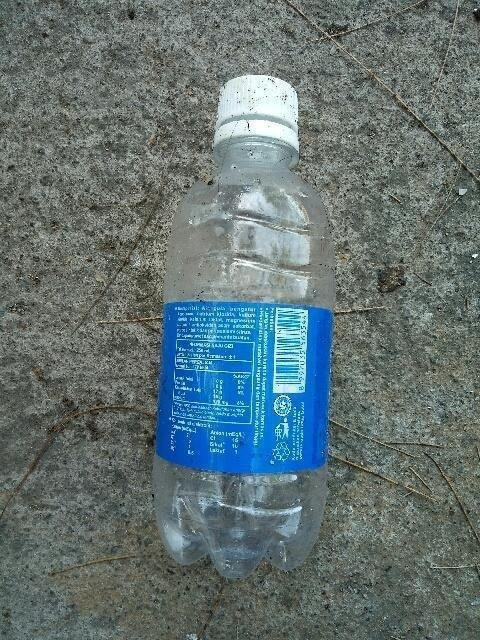bottle-plastic: (145, 71, 341, 587)
